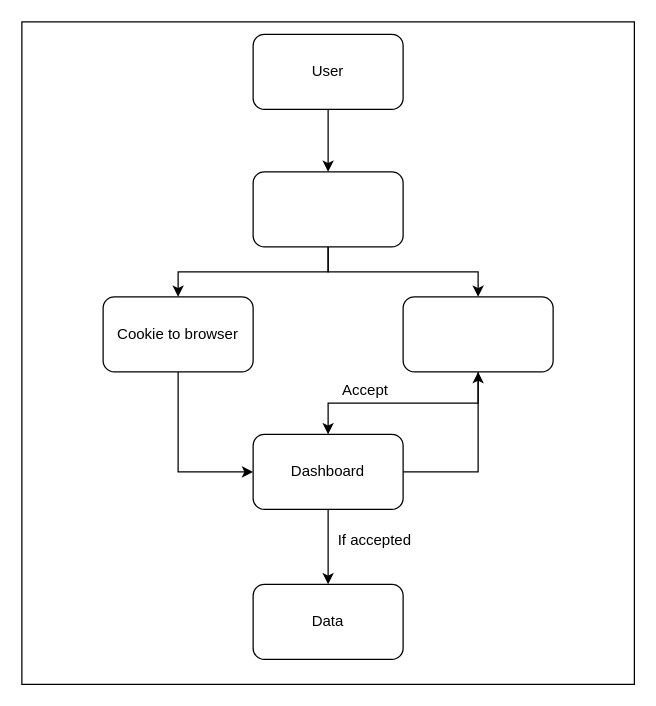
Image size: 656x706. Some labels were removed from this diagram. Here are the shapes that lost their labels. From the top down, the box of each, then its label:
(252, 171, 403, 247): User login
(402, 296, 553, 372): Data to Database
